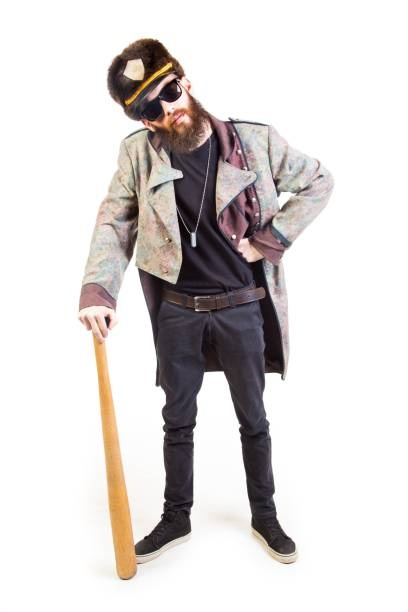bita: (85, 315, 144, 576)
